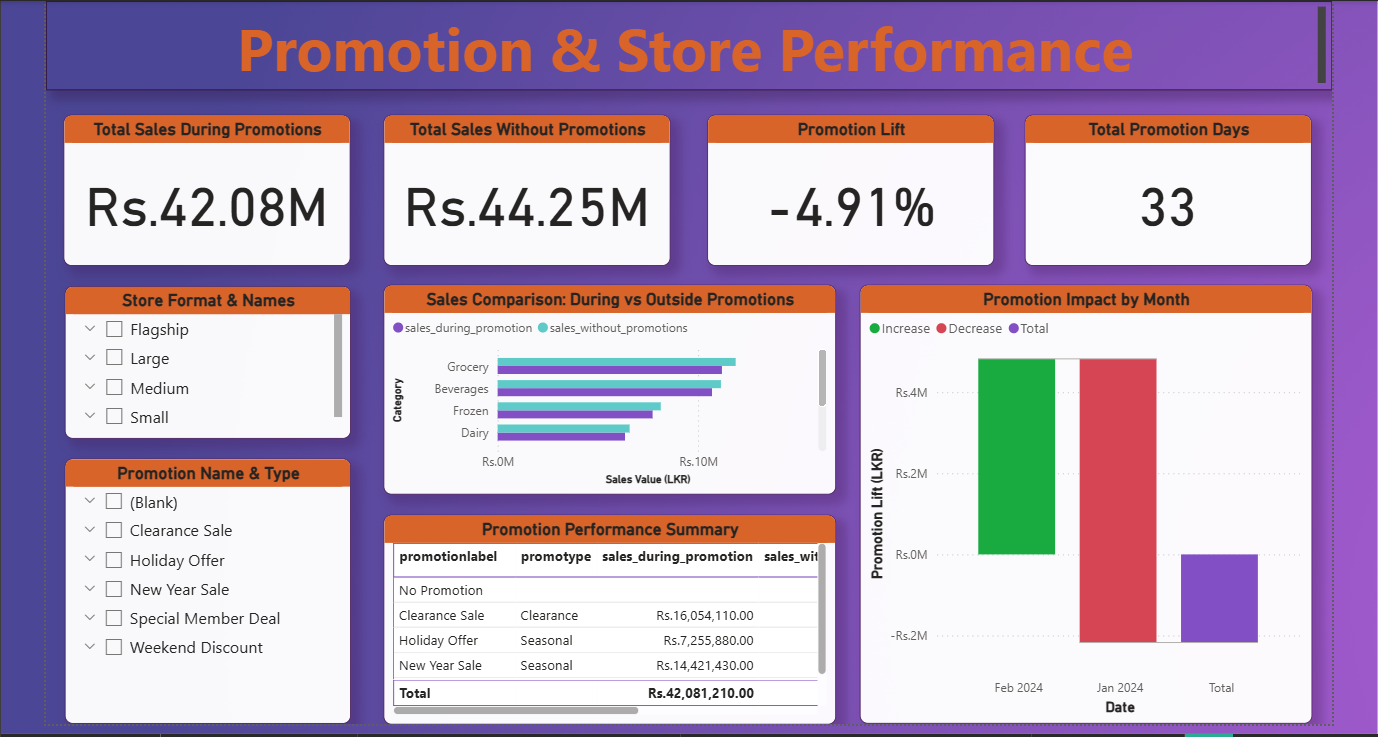

This screenshot's page, from the dashboard's own definition file:
{"tool":"powerbi","page":{"name":"promotion_&_store_performance_dashboard","canvas":[1280,720],"ordinal":2},"visuals":[{"type":"textbox","box":[0,0,1280,88.6],"z":0},{"type":"card","title":"Total Sales During Promotions","fields":{"Values":["measures_table.sales_during_promotion"]},"box":[17.1,112.9,285.7,150],"z":1000},{"type":"card","title":"Total Sales Without Promotions","fields":{"Values":["measures_table.sales_without_promotions"]},"box":[335.7,112.9,285.7,150],"z":2000},{"type":"card","title":"Promotion  Lift","fields":{"Values":["measures_table.promotion_lift_%"]},"box":[658.6,112.9,285.7,150],"z":3000},{"type":"card","title":"Total Promotion Days","fields":{"Values":["measures_table.total_promotion_days"]},"box":[974.3,112.9,285.7,150],"z":4000},{"type":"clusteredBarChart","title":"Sales Comparison: During vs Outside Promotions","fields":{"Y":["measures_table.sales_during_promotion","measures_table.sales_without_promotions"],"Category":["public products.category"]},"box":[335.7,282.9,450,208.6],"z":5000},{"type":"waterfallChart","title":"Promotion Impact by Month","fields":{"Category":["DateTable.MonthYear"],"Y":["measures_table.promotion_lift"]},"box":[810,282.9,450,437.1],"z":6000},{"type":"tableEx","title":"Promotion Performance Summary","fields":{"Values":["public sales.promotionlabel","public promotions.promotype","measures_table.sales_during_promotion","measures_table.sales_without_promotions","measures_table.promotion_lift","measures_table.promo_roi"]},"box":[335.7,511.4,450,208.6],"z":7000},{"type":"slicer","title":"Promotion Name & Type","fields":{"Values":["public promotions.promoname","public promotions.promotype"]},"box":[18.7,455.3,284.9,263.7],"z":8000},{"type":"slicer","title":"Store Format & Names","fields":{"Values":["public stores.storeformat","public stores.storename"]},"box":[18.7,283.6,284.9,151.8],"z":9000}]}

Visuals, with their boxes on the page's 1280x720 design canvas (x1, y1, x2, y2). These are canvas units, not pixel positions in the 1378x737 screenshot, which may show the page scaled, cropped or inside an application window:
textbox: region(0, 0, 1280, 89)
"Total Sales During Promotions" card: region(17, 113, 303, 263)
"Total Sales Without Promotions" card: region(336, 113, 621, 263)
"Promotion  Lift" card: region(659, 113, 944, 263)
"Total Promotion Days" card: region(974, 113, 1260, 263)
"Sales Comparison: During vs Outside Promotions" clusteredBarChart: region(336, 283, 786, 492)
"Promotion Impact by Month" waterfallChart: region(810, 283, 1260, 720)
"Promotion Performance Summary" tableEx: region(336, 511, 786, 720)
"Promotion Name & Type" slicer: region(19, 455, 304, 719)
"Store Format & Names" slicer: region(19, 284, 304, 435)
